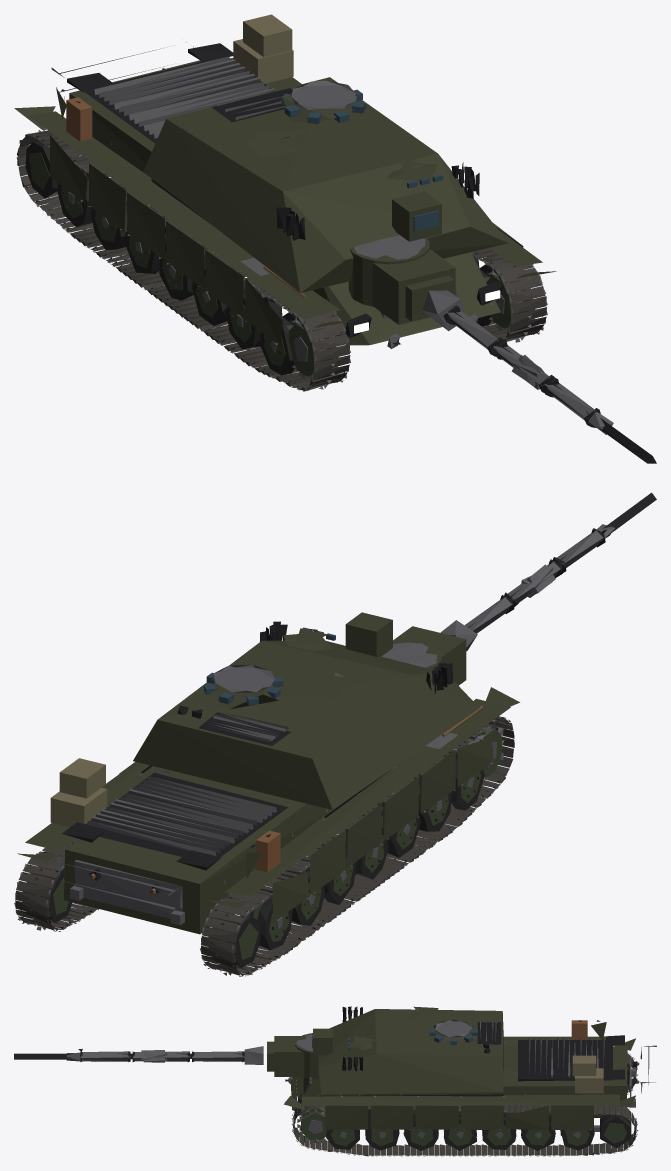
Rendered from tank_heavy.glb.
The picture shows the model from 3 angles, top to bottom: view 1: azimuth 30°, elevation 25°; view 2: azimuth 150°, elevation 25°; view 3: azimuth 270°, elevation 25°; orthographic projection. The views are drawn at different scales.
Parts seen in each view (by area): view 1: Body; view 2: Body; view 3: Body.
Boxes of the visible parts, left/top/right/bottom form: Body: left=14, top=14, right=656, bottom=463; Body: left=14, top=492, right=656, bottom=976; Body: left=14, top=1006, right=656, bottom=1156.
Size of the model in its own units: 3.49 by 2.48 by 13.52.
